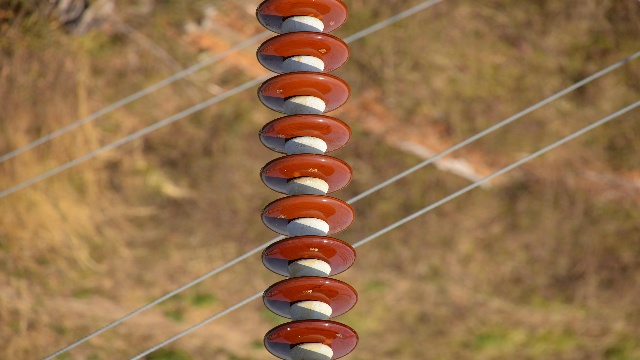insulator_unspecified: (255, 2, 359, 355)
pollution_flashover_local: (292, 169, 302, 179)
